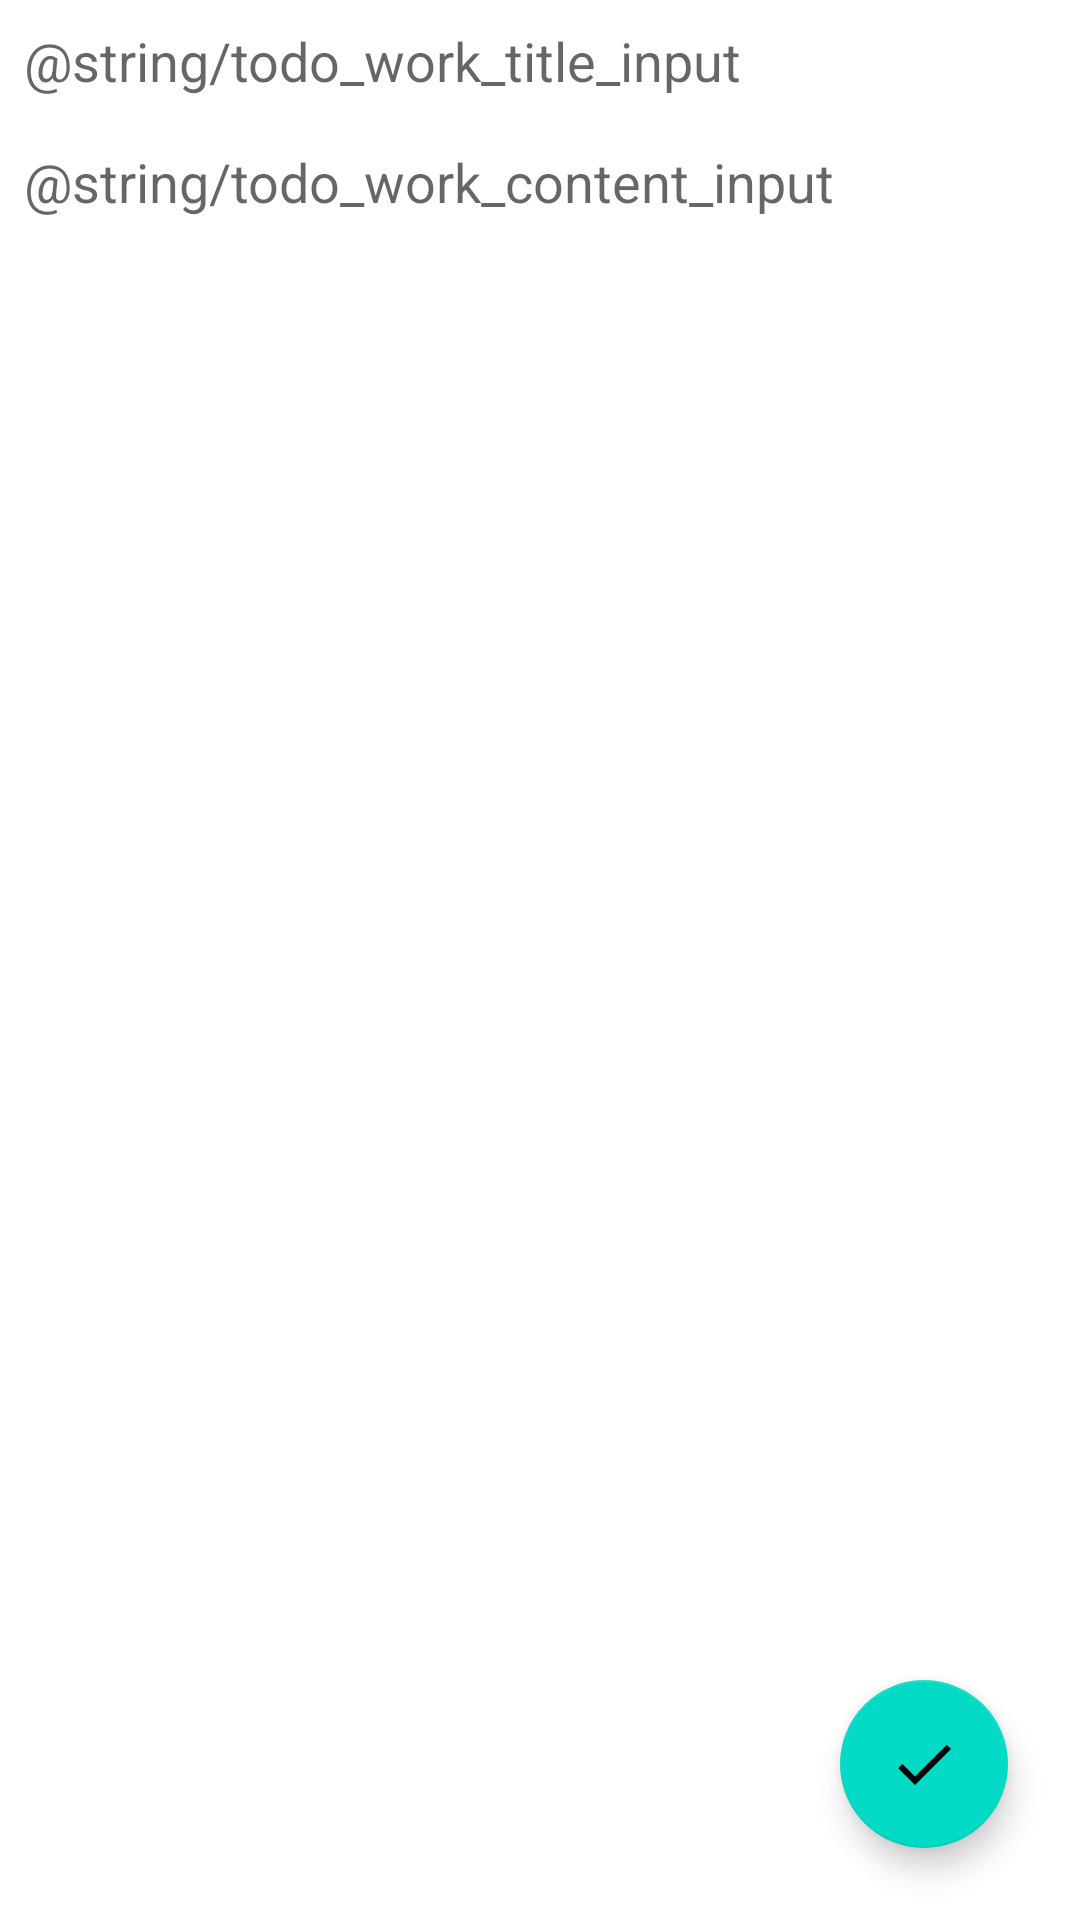

Where icons sit on this 1080px x 1920px app screen, as (x1, y1, x2, y2):
check: (840, 1680, 1008, 1848)
